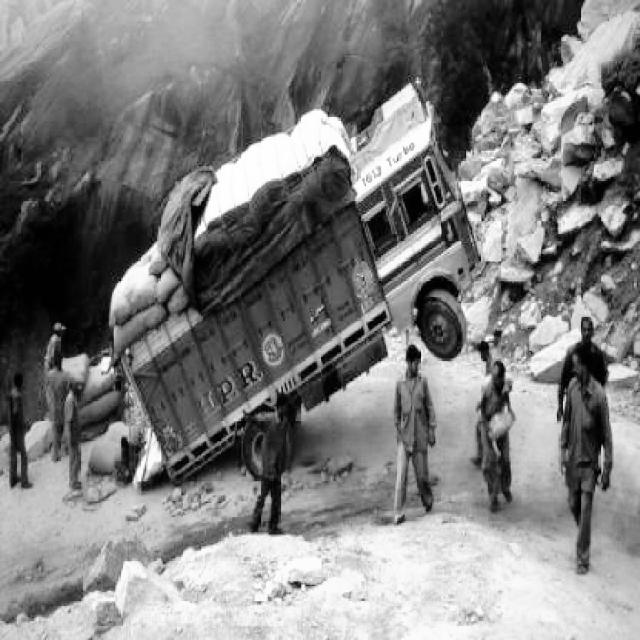HCV: (89, 169, 477, 425)
